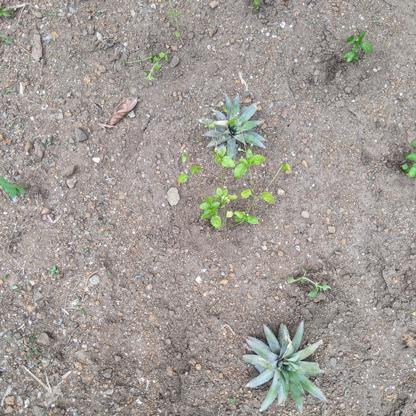pineapple: (240, 319, 331, 415), (198, 91, 268, 160)
weed: (176, 149, 292, 234), (286, 269, 335, 301), (140, 49, 178, 84), (343, 28, 376, 67), (1, 173, 34, 203), (395, 147, 416, 185)
